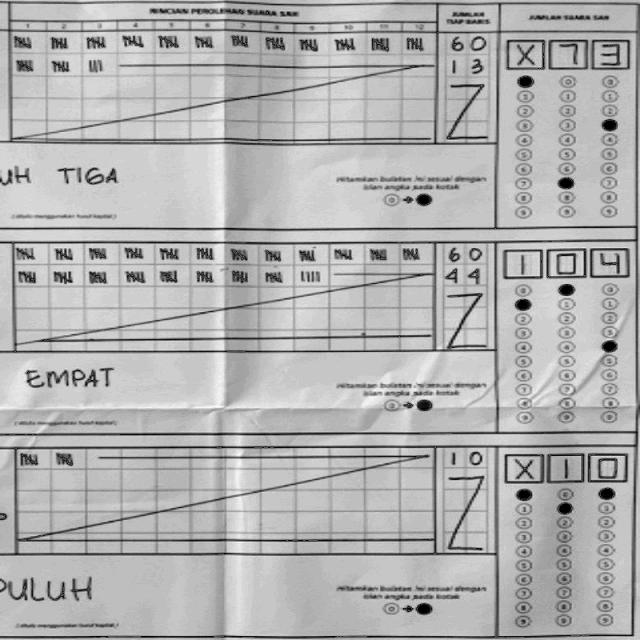Suara: (502, 34, 632, 74), (500, 449, 630, 488), (500, 244, 631, 282)
